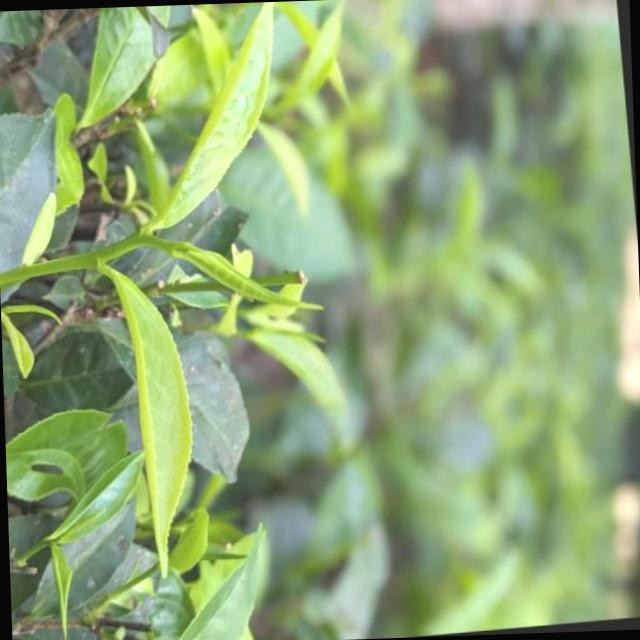Stem: (123, 232, 145, 250)
